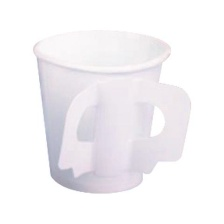paper_cup: (24, 22, 196, 200)
